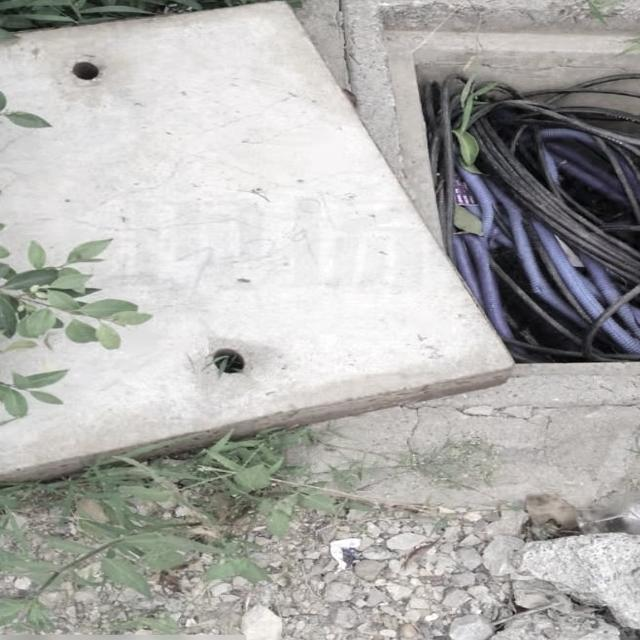uncovered: (0, 0, 640, 492)
